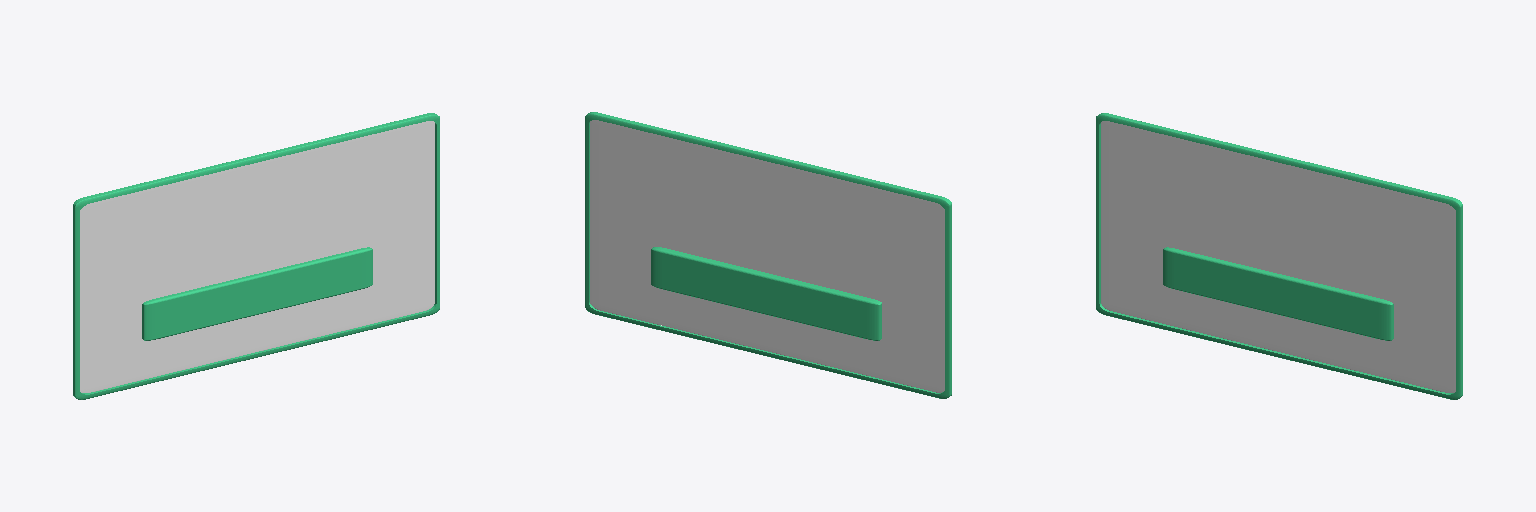
The model's file is GreenCard.obj.
The picture shows the model from 3 angles: view 1: azimuth 30°, elevation 25°; view 2: azimuth 150°, elevation 25°; view 3: azimuth 330°, elevation 25°; orthographic projection.
Visible parts, largest first — view 1: group_0_-[number redacted], group_0_[number redacted]; view 2: group_0_-[number redacted], group_0_[number redacted]; view 3: group_0_-[number redacted], group_0_[number redacted].
Boxes of the visible parts, x1,y1,x2,y2 form: group_0_-[number redacted]: [80, 121, 434, 392]; group_0_[number redacted]: [73, 113, 439, 399]; group_0_-[number redacted]: [590, 120, 944, 392]; group_0_[number redacted]: [585, 112, 951, 398]; group_0_-[number redacted]: [1101, 121, 1455, 392]; group_0_[number redacted]: [1096, 113, 1462, 399].
Size of the model in its own units: 2.49 by 1.3 by 0.09.